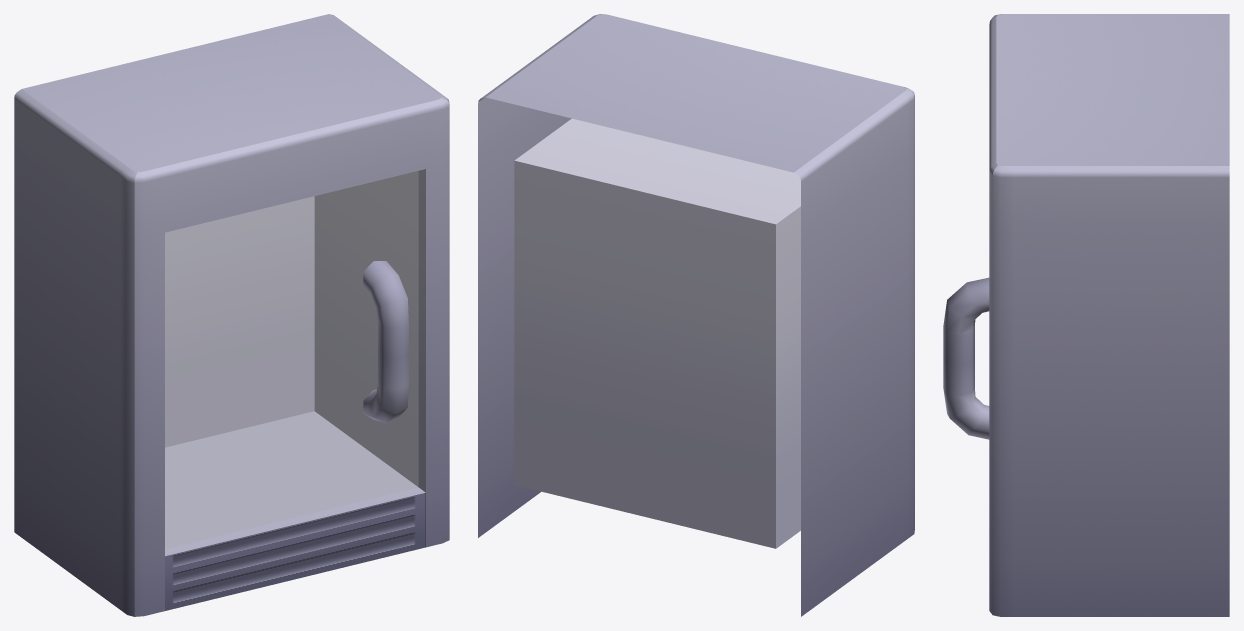
File: asset_Minifridge1.fbx
The picture shows the model from 3 angles, left to right: view 1: azimuth 30°, elevation 25°; view 2: azimuth 150°, elevation 25°; view 3: azimuth 270°, elevation 25°; orthographic projection.
Visible parts, largest first — view 1: asset_Minifridge1; view 2: asset_Minifridge1; view 3: asset_Minifridge1.
Boxes of the visible parts, x1,y1,x2,y2 form: asset_Minifridge1: [14, 14, 449, 616]; asset_Minifridge1: [478, 14, 914, 616]; asset_Minifridge1: [943, 14, 1229, 616].
Size of the model in its own units: 77.58 by 102 by 58.93.
2 materials, 1 textured.
